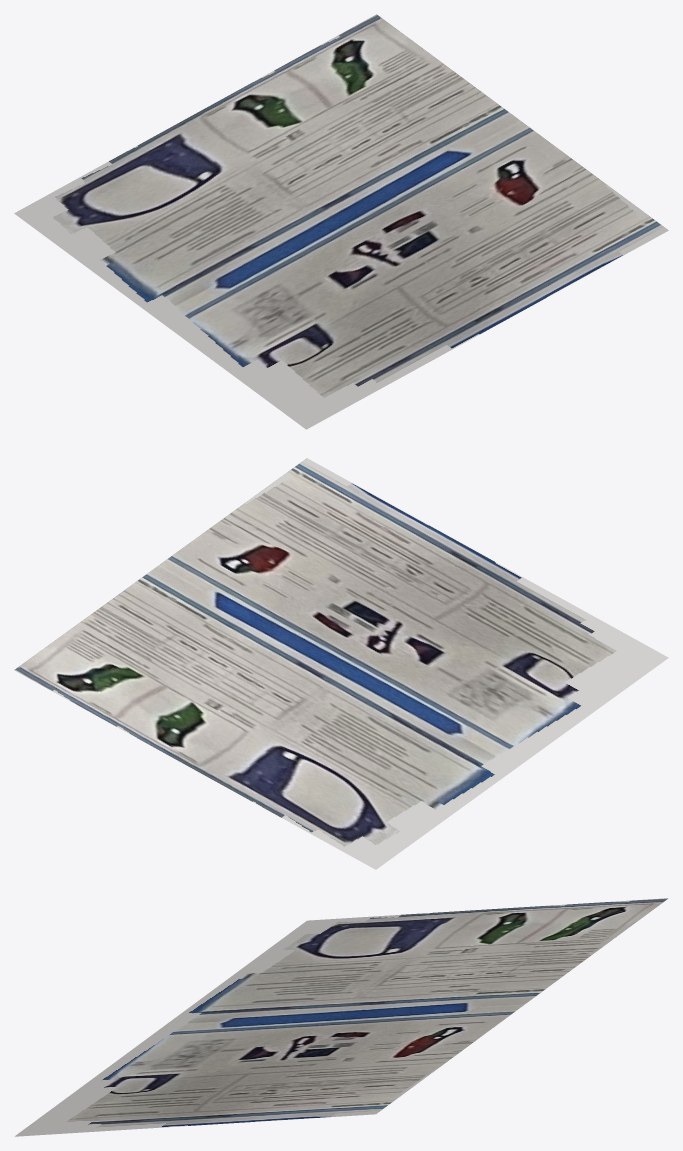
File: entity-sign-8.glb
3 renders of one model, top to bottom at view 1: azimuth 30°, elevation 25°; view 2: azimuth 150°, elevation 25°; view 3: azimuth 330°, elevation 25°, orthographic.
Parts seen in each view (by area): view 1: geometry_0; view 2: geometry_0; view 3: geometry_0.
Part boxes in pixels (bbox=[...]): geometry_0: bbox=[14, 14, 668, 429]; geometry_0: bbox=[14, 458, 668, 869]; geometry_0: bbox=[14, 898, 668, 1136].
Bounding box in the file's own units: 0.5716 × 0.1704 × 0.8001.
Materials: 1 (1 with a texture image).
